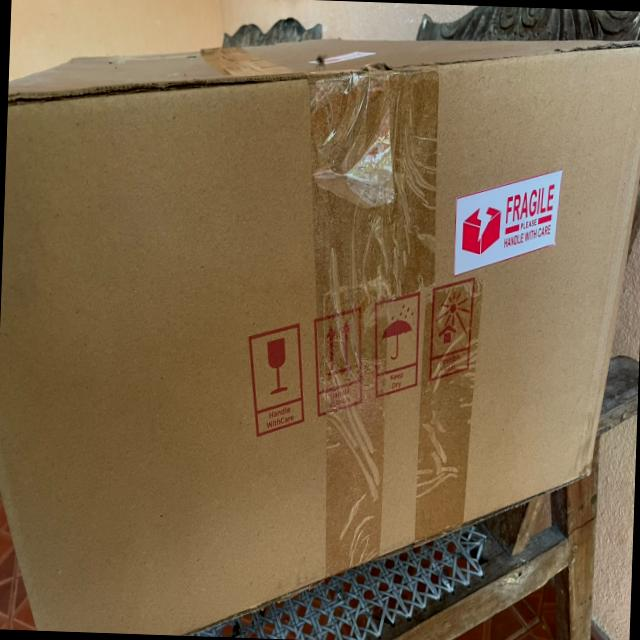carton_box: (0, 18, 640, 640)
fragile_label: (446, 175, 564, 266), (233, 314, 315, 440)
keep_dry_label: (370, 284, 422, 400)
protect_from_heat_label: (430, 275, 476, 388)
this_side_up_label: (312, 311, 374, 418)
